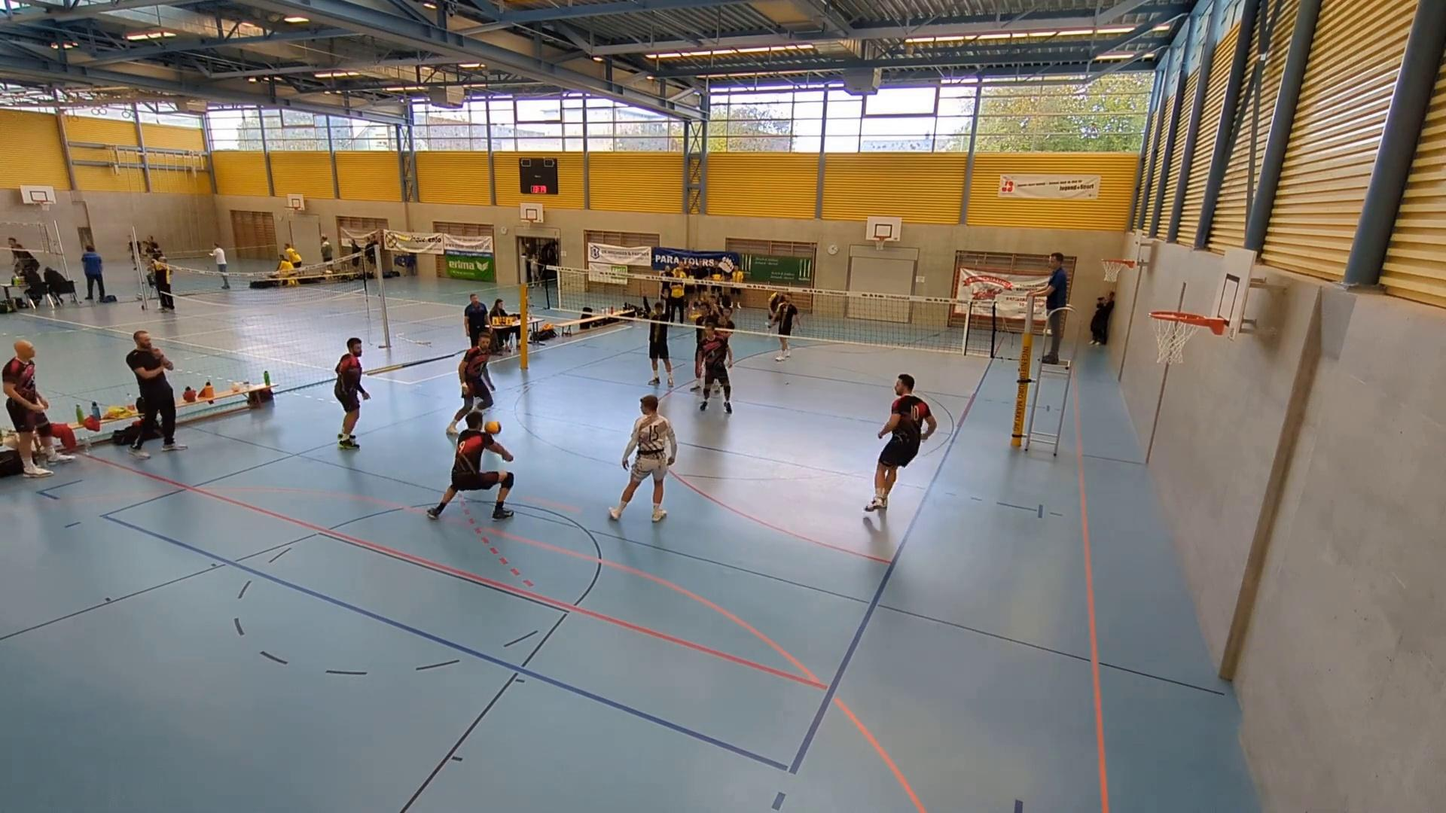Player: (865, 374, 937, 512), (608, 394, 677, 522), (447, 332, 496, 440), (333, 337, 370, 449), (697, 324, 734, 413), (647, 290, 675, 387), (688, 299, 714, 392), (770, 294, 796, 361)
Receive: (426, 419, 517, 522)
ball: (482, 419, 503, 437)
